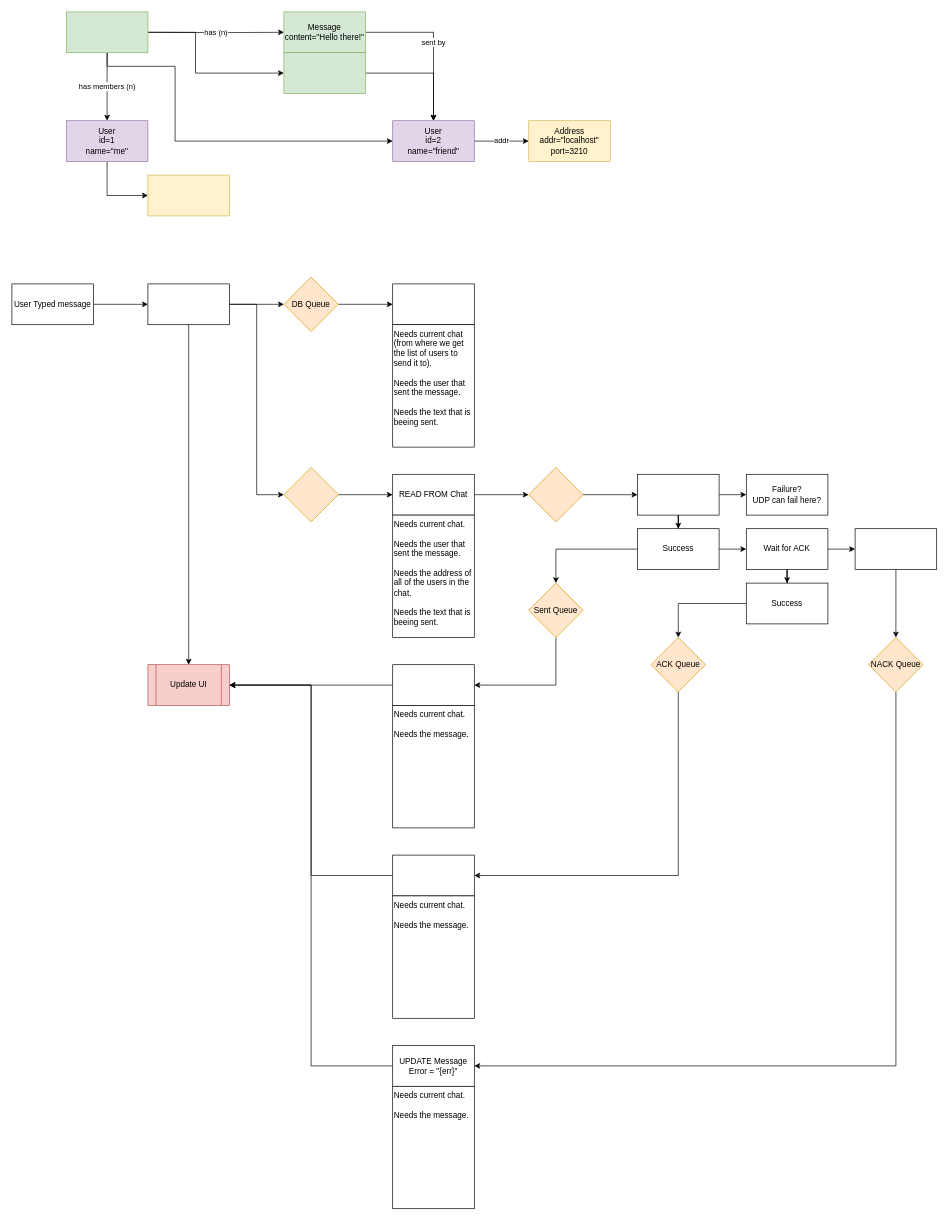
Image size: 949x1221. Some labels were removed from this diagram. Here are the shapes that lost their labels. From the top down, the centre of each, then its label:
[107,32]: Chat name="The Chat"
[324,73]: Message content="How are you?"
[188,195]: Address addr="0.0.0.0" port=3210
[188,304]: Message added to send queue
[433,304]: INSERT INTO Message
[310,494]: Prepare Queue
[555,494]: Send Queue
[678,494]: Send to socket
[895,549]: Failure
[433,685]: UPDATE Message Sent = 1
[433,875]: UPDATE Message Received = 1
